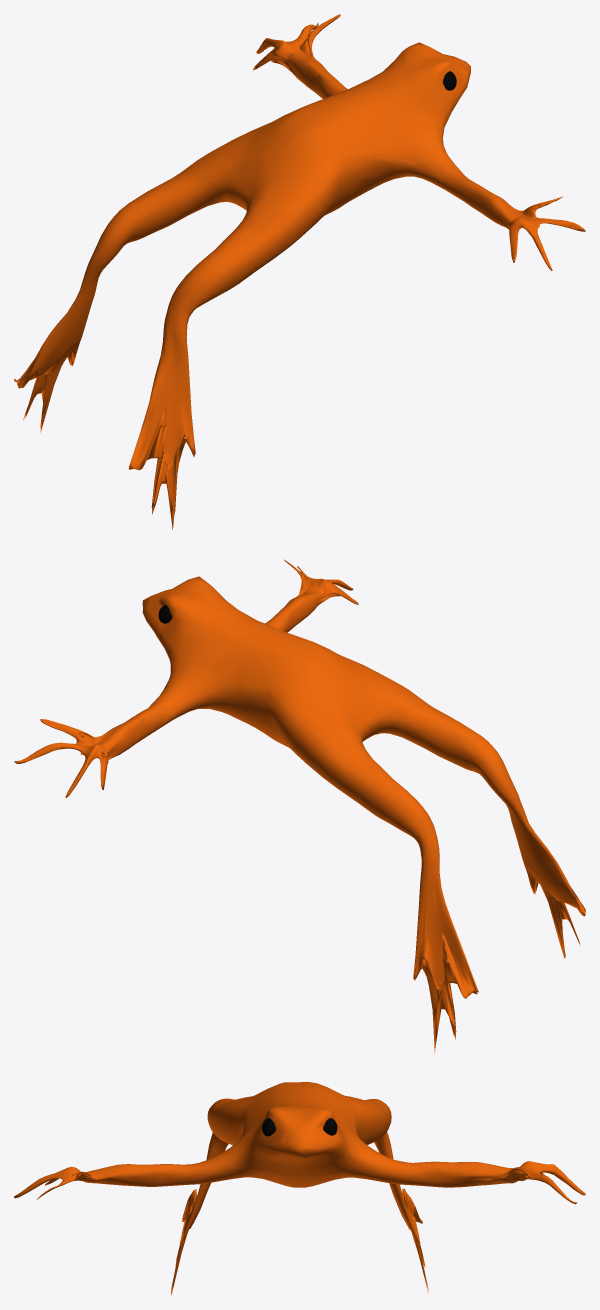
The model's file is mantella.glb.
The picture shows the model from 3 angles, top to bottom: view 1: azimuth 30°, elevation 25°; view 2: azimuth 150°, elevation 25°; view 3: azimuth 270°, elevation 25°; orthographic projection. The views are drawn at different scales.
Visible parts, largest first — view 1: Icosphere; view 2: Icosphere; view 3: Icosphere.
Boxes of the visible parts, <box> form: Icosphere: <box>14,14,585,529</box>; Icosphere: <box>14,560,585,1053</box>; Icosphere: <box>14,1082,585,1295</box>.
Size of the model in its own units: 0.44 by 0.371 by 0.566.
